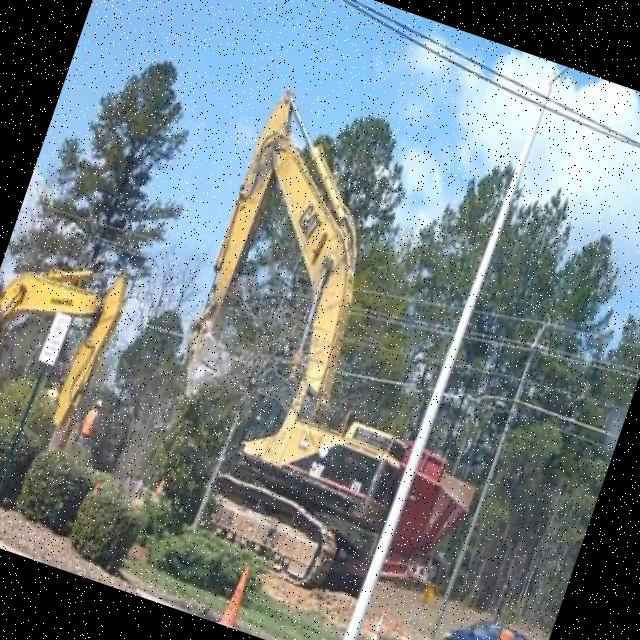Excavator: (120, 80, 507, 608), (0, 226, 138, 435)
